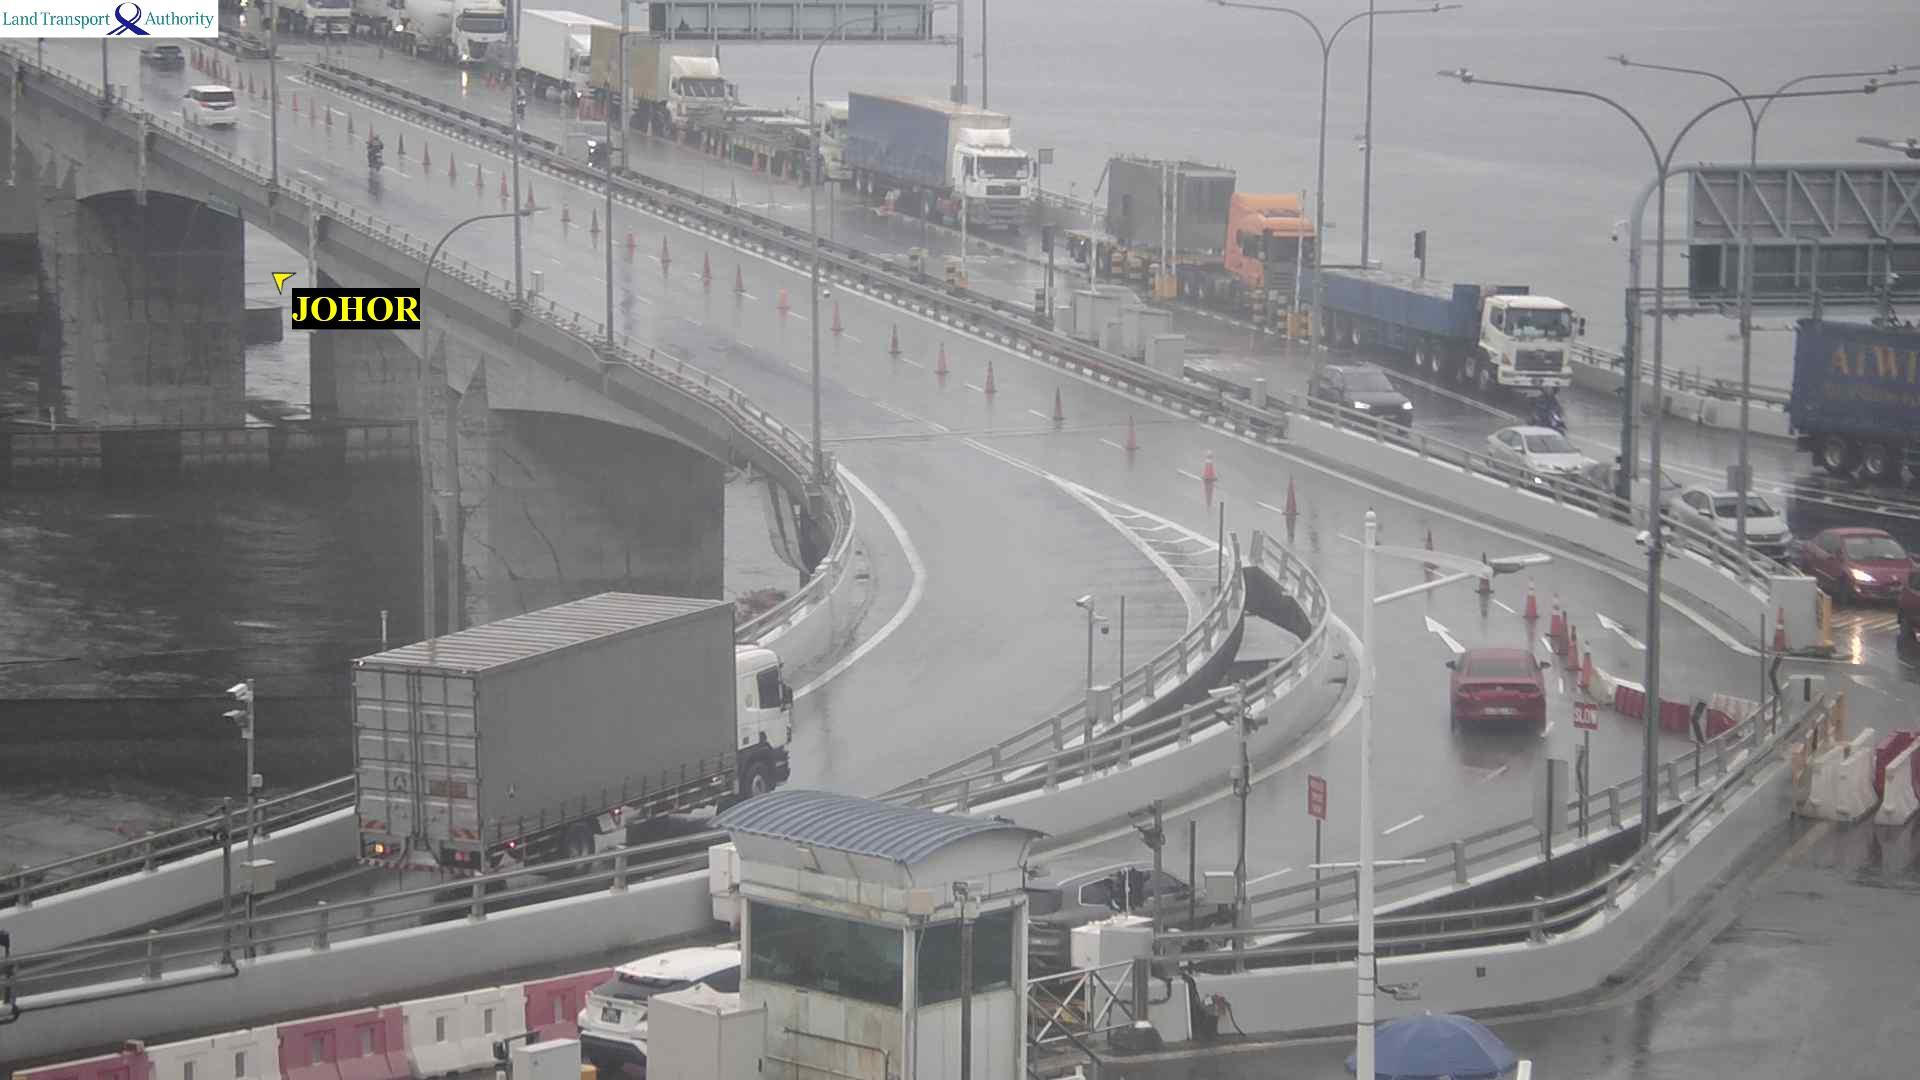vehicle-secondlink-johor: (356, 587, 791, 878), (1040, 853, 1242, 956), (585, 961, 736, 1072), (1451, 647, 1548, 738), (181, 84, 236, 115), (367, 137, 384, 171)
vehicle-secondlink-singapore: (1050, 156, 1321, 290), (1325, 274, 1586, 404), (525, 8, 762, 123), (851, 90, 1036, 235), (1805, 307, 1920, 495), (381, 0, 520, 63), (1809, 529, 1919, 604), (257, 1, 435, 40), (1675, 485, 1778, 542), (1309, 369, 1415, 417), (1498, 425, 1576, 476), (1811, 529, 1920, 563), (276, 0, 364, 36)
